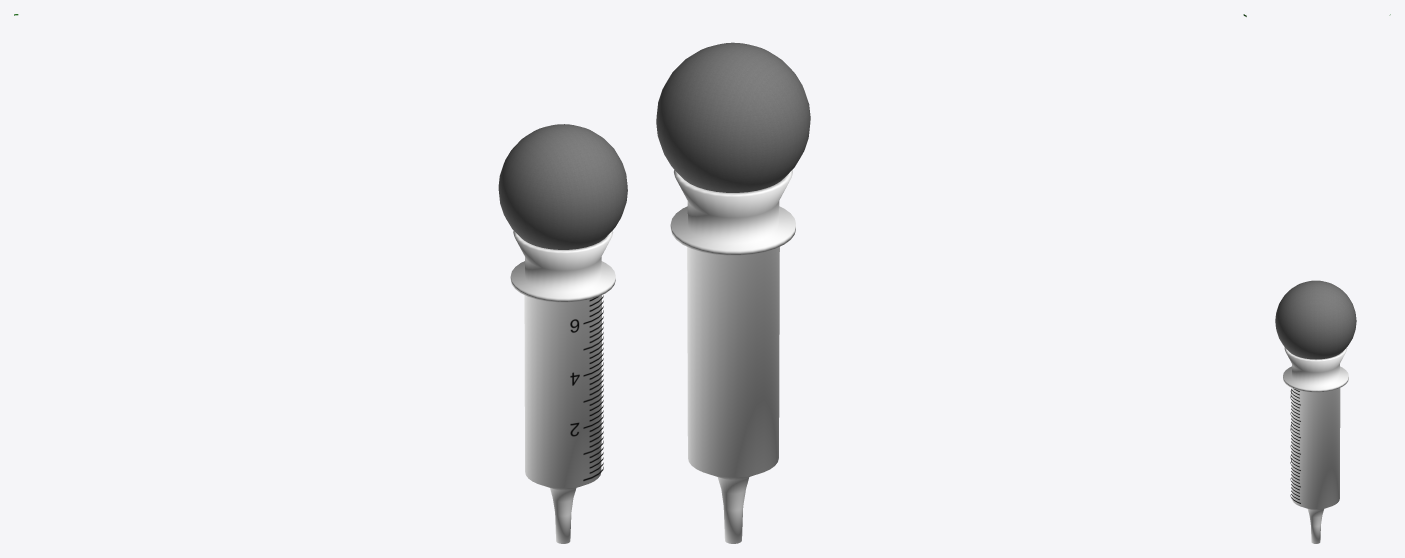
File: asepto-syringe.glb
3 renders of one model, left to right at view 1: azimuth 30°, elevation 25°; view 2: azimuth 150°, elevation 25°; view 3: azimuth 270°, elevation 25°, orthographic. The views are drawn at different scales.
Visible parts, largest first — view 1: Circle, Circle.002, _614e5cd34de423c8b9b2547eedf9351_obj_cleaner_materialmerger_; view 2: Circle, Circle.002; view 3: Circle, Circle.002, _614e5cd34de423c8b9b2547eedf9351_obj_cleaner_materialmerger_.
Part boxes in pixels (box(x1,y1,x2,y2)): Circle: box(510, 230, 615, 543); Circle.002: box(498, 124, 627, 249); _614e5cd34de423c8b9b2547eedf9351_obj_cleaner_materialmerger_: box(14, 14, 603, 480); Circle: box(670, 170, 795, 543); Circle.002: box(656, 42, 810, 192); Circle: box(1283, 347, 1348, 543); Circle.002: box(1275, 280, 1356, 359); _614e5cd34de423c8b9b2547eedf9351_obj_cleaner_materialmerger_: box(1290, 14, 1390, 503).
Bounding box in the file's own units: 16.52 × 17.43 × 4.82.
4 materials, 2 textured.
